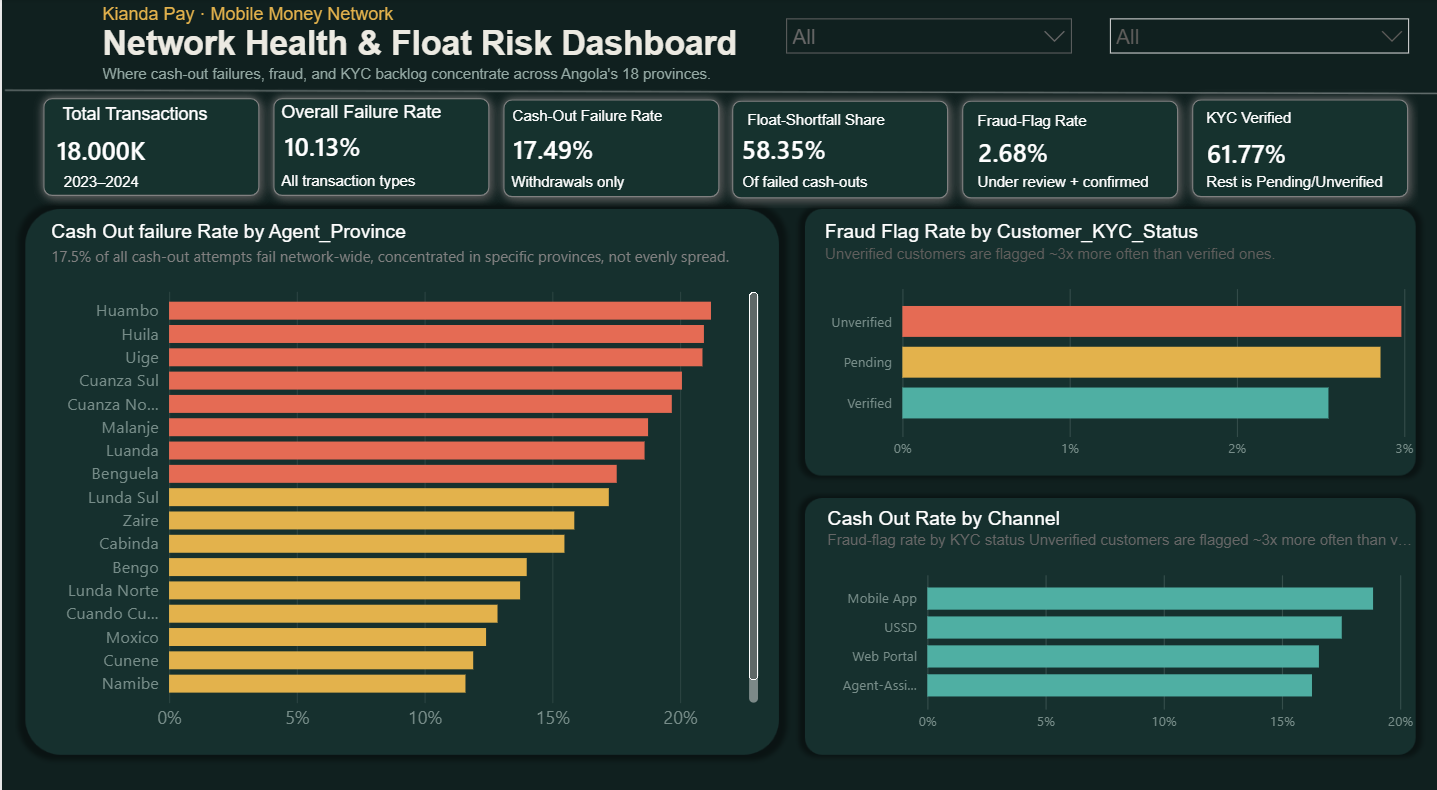

What the dashboard file says about the page in this screenshot:
{"tool":"powerbi","page":{"name":"Dashboard","canvas":[1280,720],"ordinal":0},"visuals":[{"type":"group","id":"g1","title":"Group 1","box":[27.8,80.1,1233.4,118],"z":0},{"type":"shape","box":[27.8,80.6,210.4,105.1],"z":0,"group":"g1"},{"type":"barChart","fields":{"Y":["Metrics.Cash Out faluere Rate"],"Category":["dAgent.Agent_Province"]},"box":[39.3,197.7,639.5,464],"z":0,"group":"g2"},{"type":"group","id":"g2","title":"Group 3","box":[20,0,1243.4,662.2],"z":1000},{"type":"shape","box":[232.4,80.1,210.4,105.1],"z":1000,"group":"g1"},{"type":"barChart","fields":{"Y":["Metrics.Fraud Flag Rate"],"Category":["dCustumer.Customer_KYC_Status"]},"box":[727.7,197.7,534.9,220.9],"z":1000,"group":"g2"},{"type":"slicer","title":"CHOOSE PROVINCE ","fields":{"Values":["dAgent.Agent_Province"]},"box":[687.5,8.2,274.4,57.6],"z":2000},{"type":"shape","box":[437.1,81,210.4,105.1],"z":2000,"group":"g1"},{"type":"barChart","fields":{"Y":["Metrics.Cash Out faluere Rate"],"Category":["dCustumer.Channel"]},"box":[730,453.5,532,208.7],"z":2000,"group":"g2"},{"type":"slicer","fields":{"Values":["fTransation.Year"]},"box":[977,11,286.8,45.3],"z":3000},{"type":"shape","box":[641.7,82,210.4,105.1],"z":3000,"group":"g1"},{"type":"shape","box":[846.3,82.5,210.4,105.1],"z":4000,"group":"g1"},{"type":"group","id":"g3","title":"Group 2","box":[20,87.9,1243.4,146],"z":4000,"group":"g2"},{"type":"cardVisual","fields":{"Data":["Metrics.Totat de Transacoes"]},"box":[20,99.1,185.9,68.6],"z":4000,"group":"g3"},{"type":"textbox","box":[84.5,0,650.1,111.3],"z":5000,"group":"g2"},{"type":"shape","box":[1051,81.5,210.4,105.1],"z":5000,"group":"g1"},{"type":"textbox","box":[49,88.8,173.5,44.2],"z":5000,"group":"g3"},{"type":"cardVisual","fields":{"Data":["Metrics.Overal Failure Rate"]},"box":[222.2,94.1,151.1,72.4],"z":6000,"group":"g3"},{"type":"textbox","box":[244.3,87.9,166.2,34.9],"z":7000,"group":"g3"},{"type":"textbox","box":[50.2,149.1,125.5,34.9],"z":8000,"group":"g3"},{"type":"textbox","box":[244.3,147.8,195.2,86.1],"z":9000,"group":"g3"},{"type":"cardVisual","fields":{"Data":["Metrics.Cash Out faluere Rate"]},"box":[426.7,102.9,158,61.2],"z":10000,"group":"g3"},{"type":"textbox","box":[450.1,90.2,196.4,34.9],"z":11000,"group":"g3"},{"type":"textbox","box":[448.8,149.1,196.4,34.9],"z":12000,"group":"g3"},{"type":"cardVisual","fields":{"Data":["Metrics.Float Shortfall Share"]},"box":[630.1,101.6,138.3,64.9],"z":13000,"group":"g3"},{"type":"textbox","box":[658.4,93.2,197,36.7],"z":14000,"group":"g3"},{"type":"textbox","box":[654.5,149.1,196.4,34.9],"z":15000,"group":"g3"},{"type":"cardVisual","fields":{"Data":["Metrics.Fraud Flag Rate"]},"box":[840.4,104.1,130.2,62.4],"z":16000,"group":"g3"},{"type":"textbox","box":[863.7,94.1,196.4,36.2],"z":17000,"group":"g3"},{"type":"textbox","box":[863.7,149.1,196.4,34.9],"z":18000,"group":"g3"},{"type":"cardVisual","fields":{"Data":["Metrics.% KYC"]},"box":[1043.8,105.4,180.1,62.4],"z":19000,"group":"g3"},{"type":"textbox","box":[1067,92.9,196.4,34.9],"z":20000,"group":"g3"},{"type":"textbox","box":[1067,149.1,196.4,34.9],"z":21000,"group":"g3"}]}

Visuals, with their boxes in screenshot pixels (x1, y1, x2, y2), scaled from the page's 1280x720 canvas onto the 1437x790 screenshot:
"Group 1" group: l=31, t=88, r=1416, b=217
shape: l=31, t=88, r=267, b=204
barChart - Metrics.Cash Out faluere Rate x dAgent.Agent_Province: l=44, t=217, r=762, b=726
"Group 3" group: l=22, t=0, r=1418, b=727
shape: l=261, t=88, r=497, b=203
barChart - Metrics.Fraud Flag Rate x dCustumer.Customer_KYC_Status: l=817, t=217, r=1417, b=459
"CHOOSE PROVINCE " slicer: l=772, t=9, r=1080, b=72
shape: l=491, t=89, r=727, b=204
barChart - Metrics.Cash Out faluere Rate x dCustumer.Channel: l=820, t=498, r=1417, b=727
slicer - fTransation.Year: l=1097, t=12, r=1419, b=62
shape: l=720, t=90, r=957, b=205
shape: l=950, t=91, r=1186, b=206
"Group 2" group: l=22, t=96, r=1418, b=257
cardVisual - Metrics.Totat de Transacoes: l=22, t=109, r=231, b=184
textbox: l=95, t=0, r=825, b=122
shape: l=1180, t=89, r=1416, b=205
textbox: l=55, t=97, r=250, b=146
cardVisual - Metrics.Overal Failure Rate: l=249, t=103, r=419, b=183
textbox: l=274, t=96, r=461, b=135
textbox: l=56, t=164, r=197, b=202
textbox: l=274, t=162, r=493, b=257
cardVisual - Metrics.Cash Out faluere Rate: l=479, t=113, r=656, b=180
textbox: l=505, t=99, r=726, b=137
textbox: l=504, t=164, r=724, b=202
cardVisual - Metrics.Float Shortfall Share: l=707, t=111, r=863, b=183
textbox: l=739, t=102, r=960, b=143
textbox: l=735, t=164, r=955, b=202
cardVisual - Metrics.Fraud Flag Rate: l=943, t=114, r=1090, b=183
textbox: l=970, t=103, r=1190, b=143
textbox: l=970, t=164, r=1190, b=202
cardVisual - Metrics.% KYC: l=1172, t=116, r=1374, b=184
textbox: l=1198, t=102, r=1418, b=140
textbox: l=1198, t=164, r=1418, b=202
